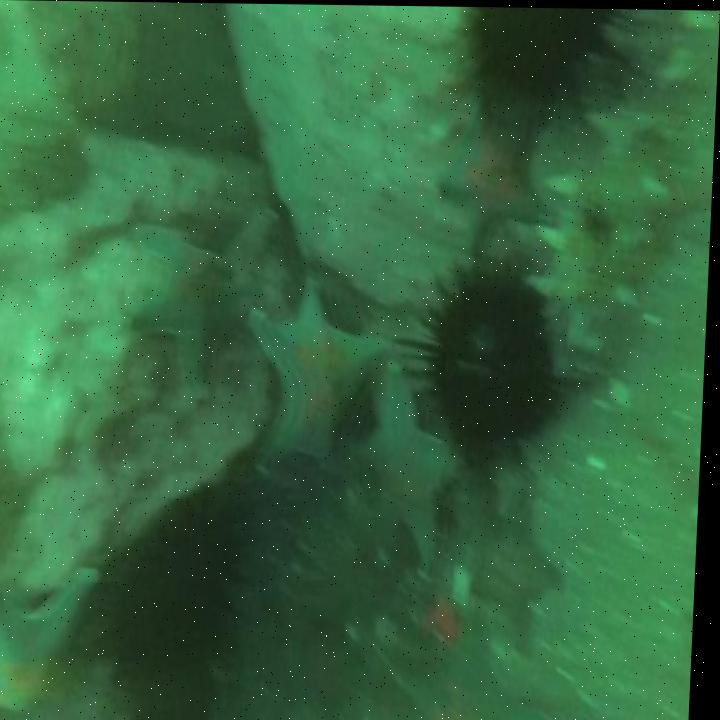echinus: (110, 484, 250, 700), (442, 272, 558, 451), (465, 9, 615, 105)
holothurian: (552, 92, 693, 312)
starfish: (249, 279, 388, 460), (126, 224, 257, 400), (355, 362, 464, 551), (0, 553, 102, 720), (439, 119, 551, 254), (480, 488, 564, 645)
